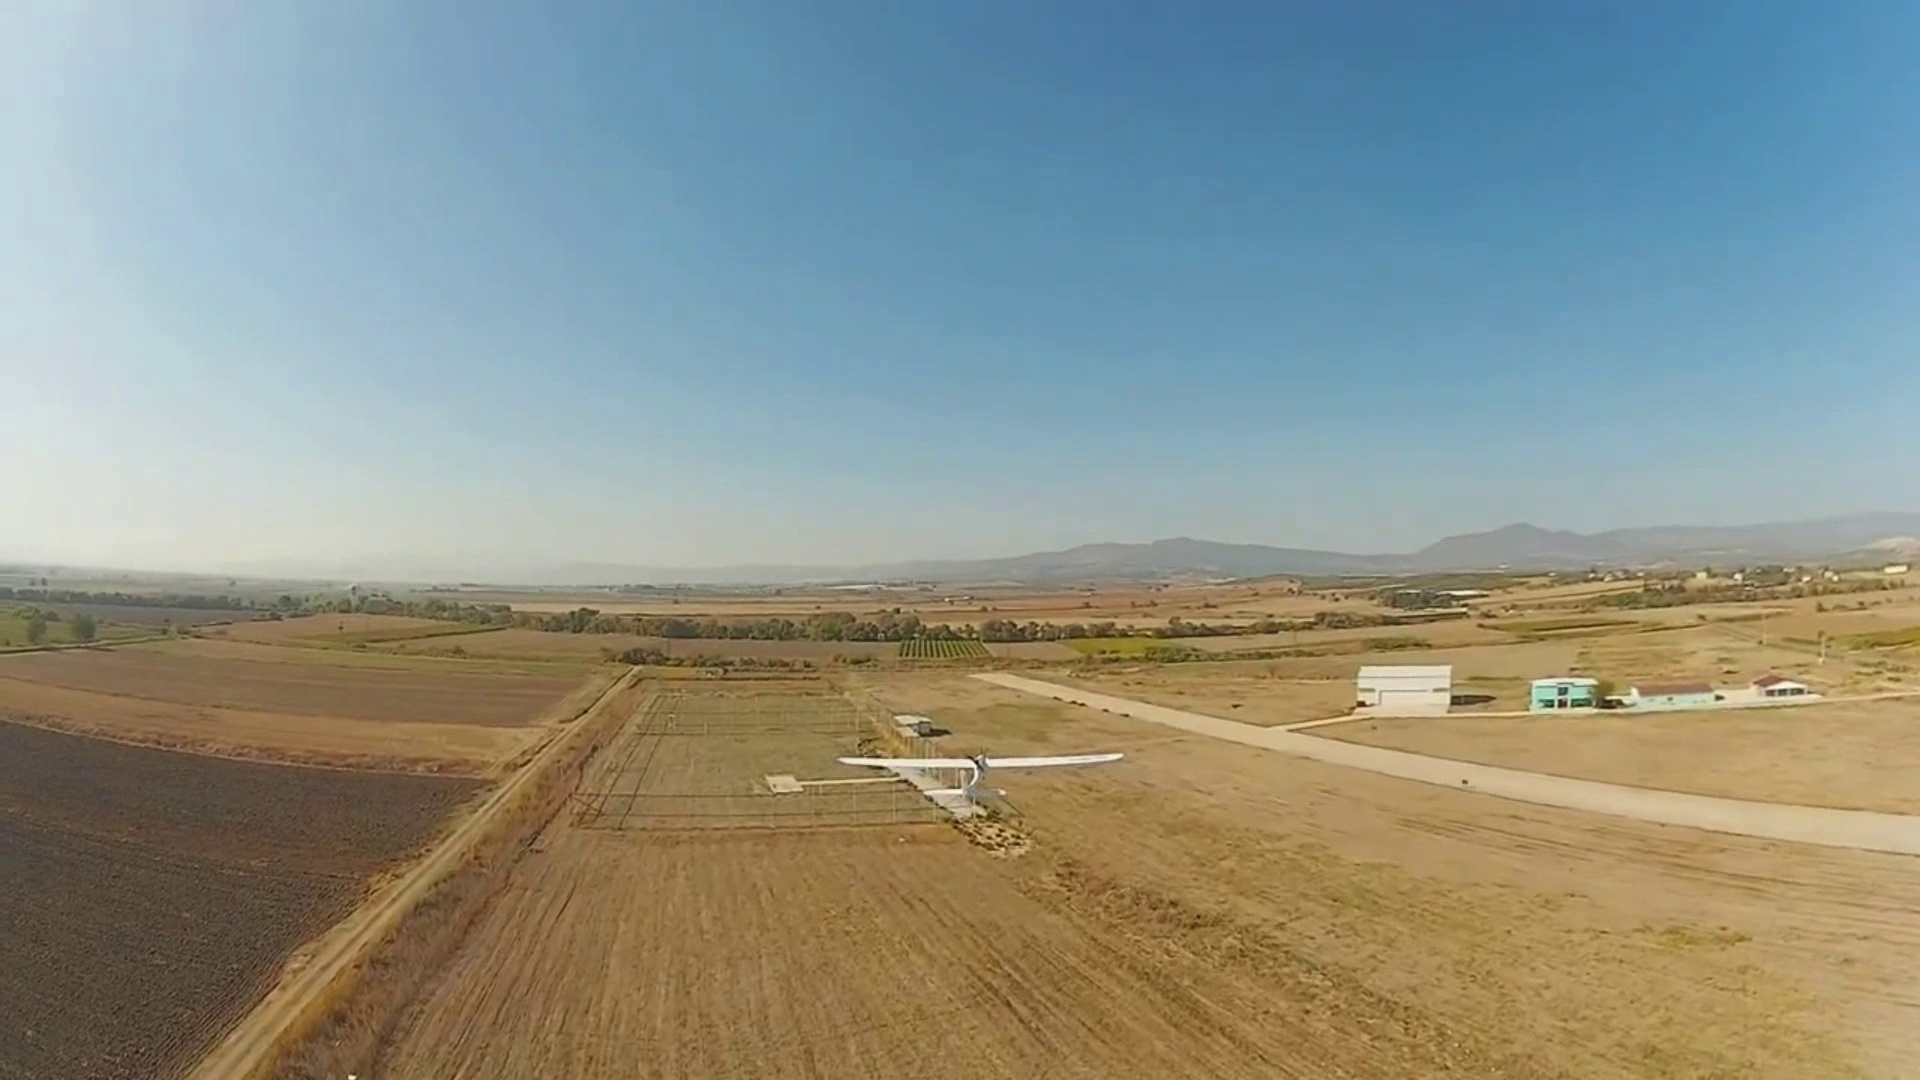airplane: (841, 717, 1129, 835)
